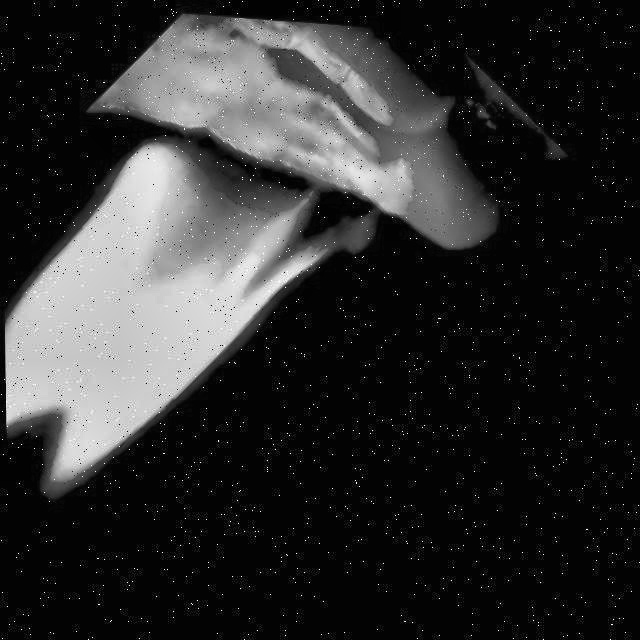Fire: (0, 42, 389, 552)
